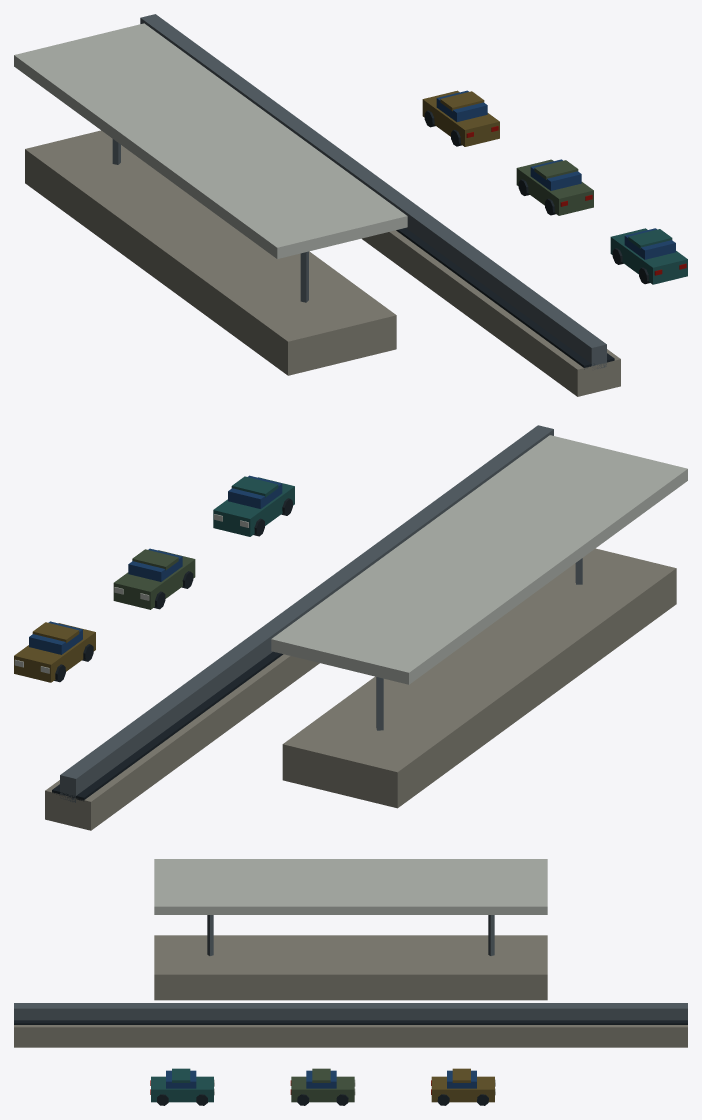
The model's file is maglevstation1.glb.
3 views of the same model, one above another, from view 1: azimuth 30°, elevation 25°; view 2: azimuth 150°, elevation 25°; view 3: azimuth 270°, elevation 25° (orthographic). The views are drawn at different scales.
Visible parts, largest first — view 1: maglevstation1; view 2: maglevstation1; view 3: maglevstation1.
Part boxes in pixels (x1,y1,x2,y2): maglevstation1: [14, 14, 687, 396]; maglevstation1: [14, 425, 687, 830]; maglevstation1: [14, 859, 687, 1105].
Size of the model in its own units: 37.8 by 11.5 by 72.
